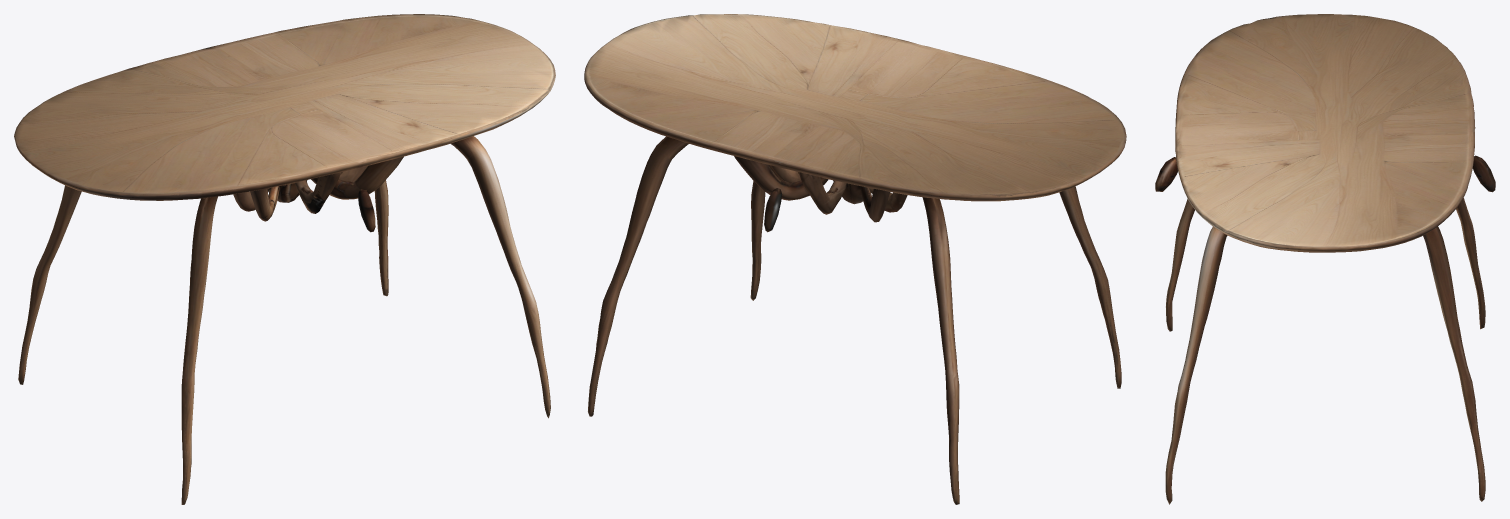
File: A_surreal_condo_style_1128002422_texture.fbx
3 views of the same model, side by side, from view 1: azimuth 30°, elevation 25°; view 2: azimuth 150°, elevation 25°; view 3: azimuth 270°, elevation 25° (orthographic). The views are drawn at different scales.
Parts seen in each view (by area): view 1: Mesh_0; view 2: Mesh_0; view 3: Mesh_0.
Boxes of the visible parts, bbox=[...] form: Mesh_0: bbox=[14, 14, 555, 504]; Mesh_0: bbox=[584, 14, 1126, 504]; Mesh_0: bbox=[1155, 14, 1495, 504].
Size of the model in its own units: 201 by 115 by 123.
Materials: 1 (1 with a texture image).
